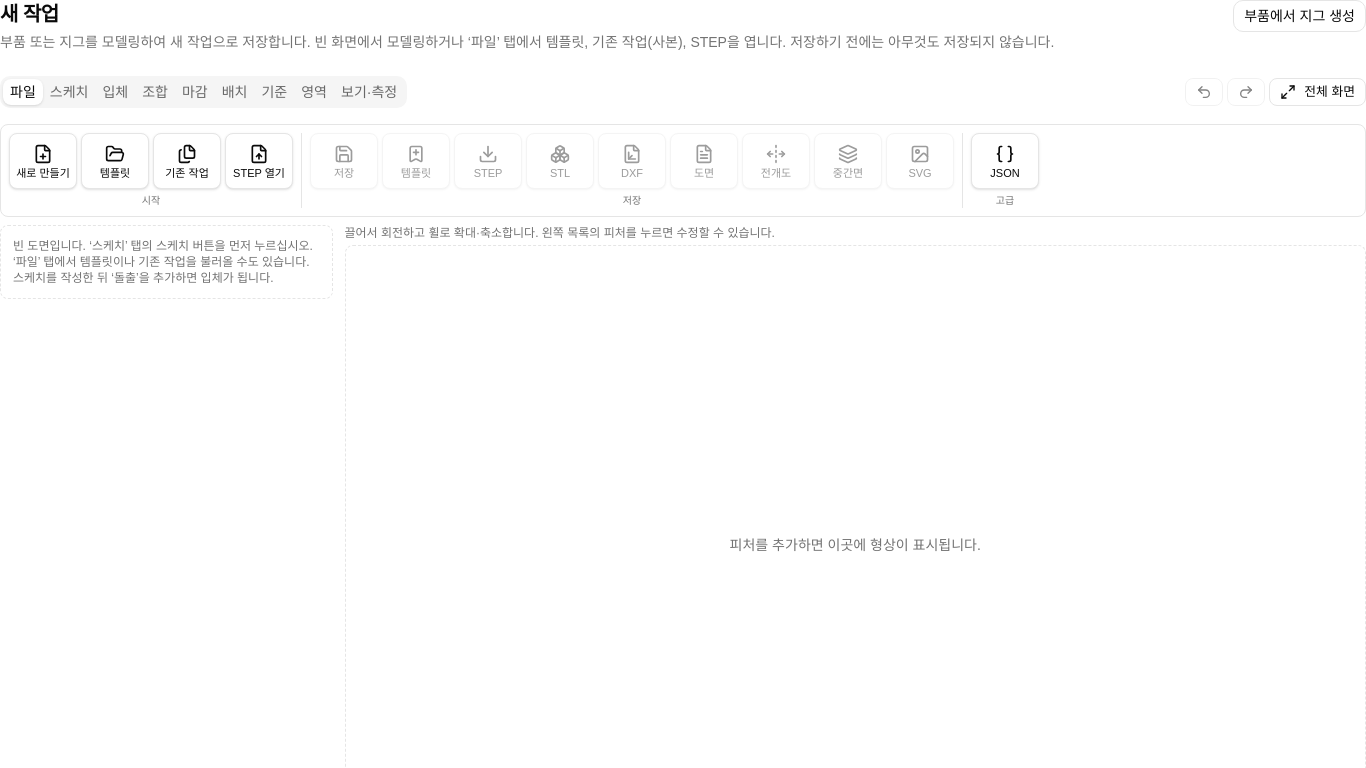
Test: 처음부터 그린 것은 새 작업으로만 저장된다
This screenshot has width=1366, height=768.
Press the mouse on the tab "입체": (115, 92) [95,79,135,105]
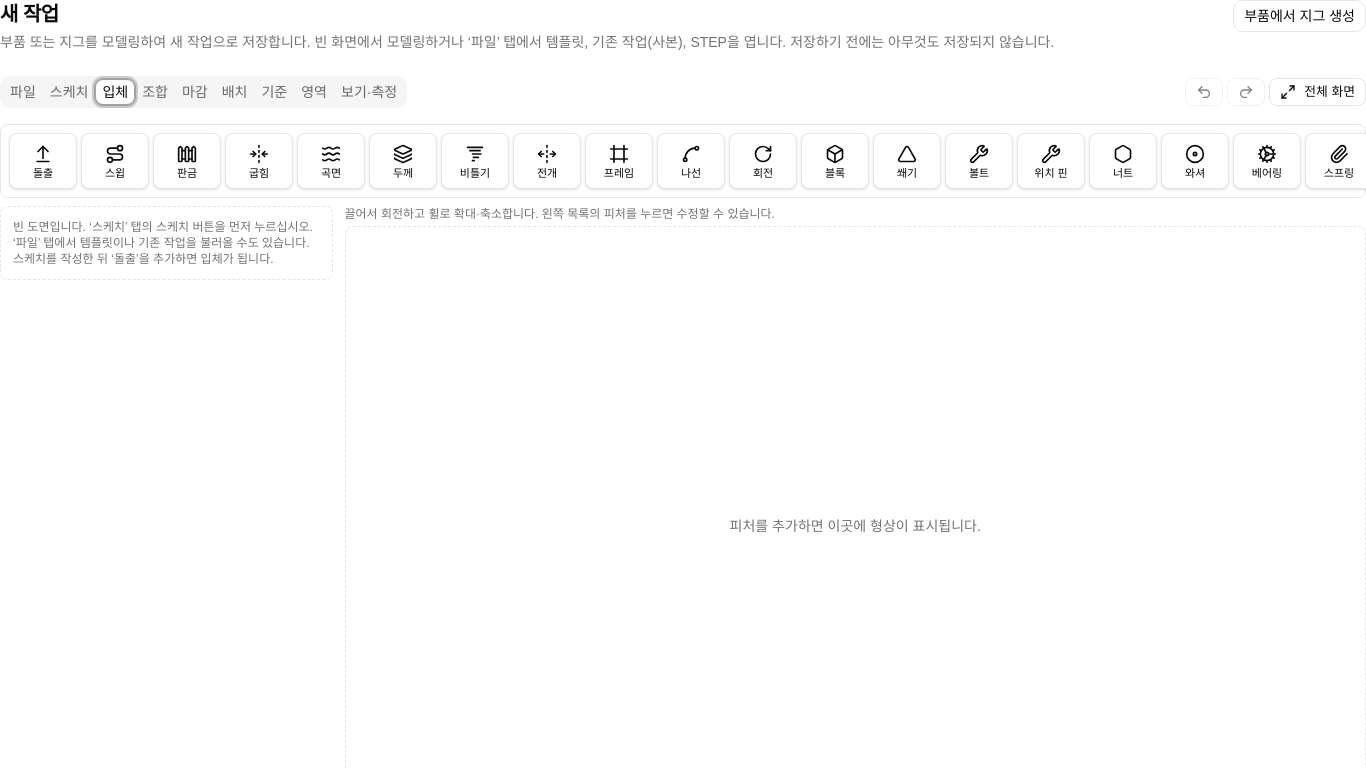
Click the button "블록": (835, 161) [801,133,869,189]
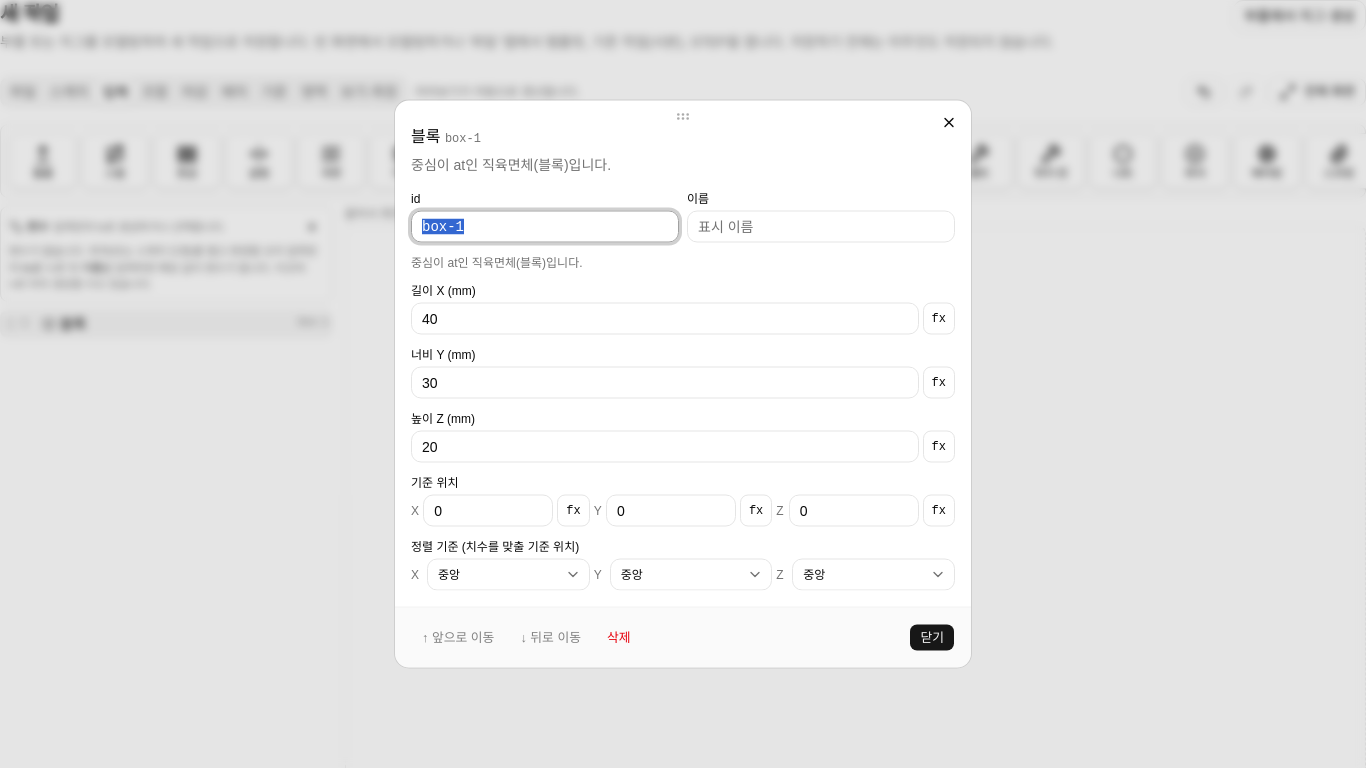
Press Escape in the dialog, box [395,100,971,668]
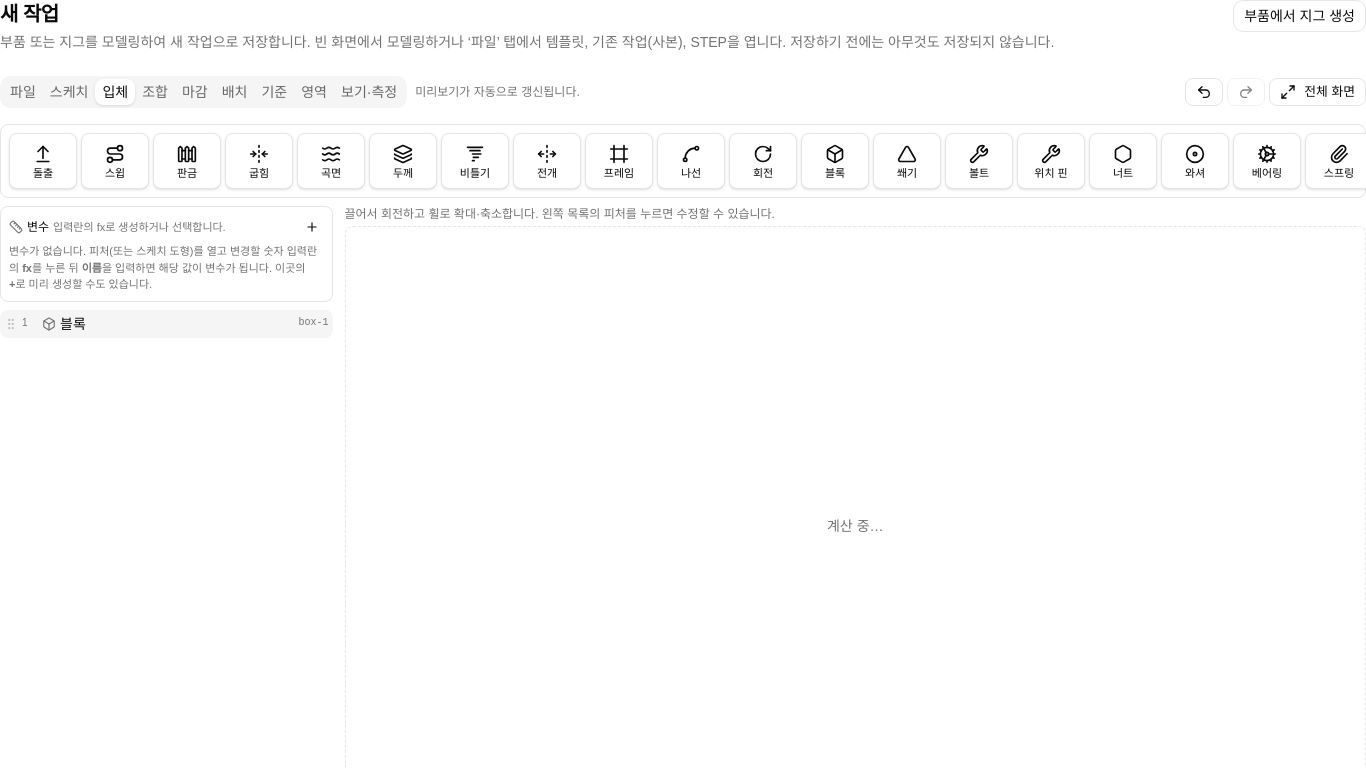
Check: the dialog is gone
Press the mouse on the tab "파일": (23, 92) [3,79,43,105]
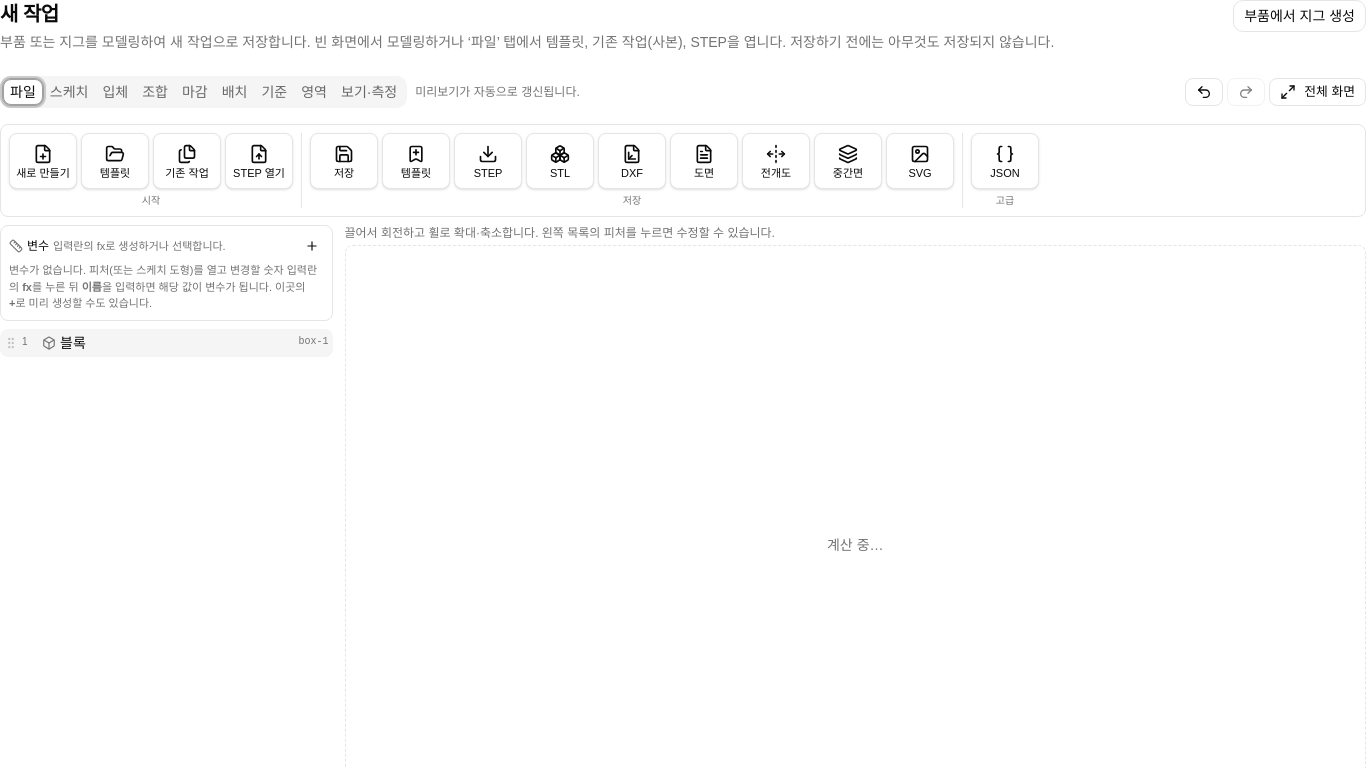
Click the button "저장": (344, 161) [310,133,378,189]
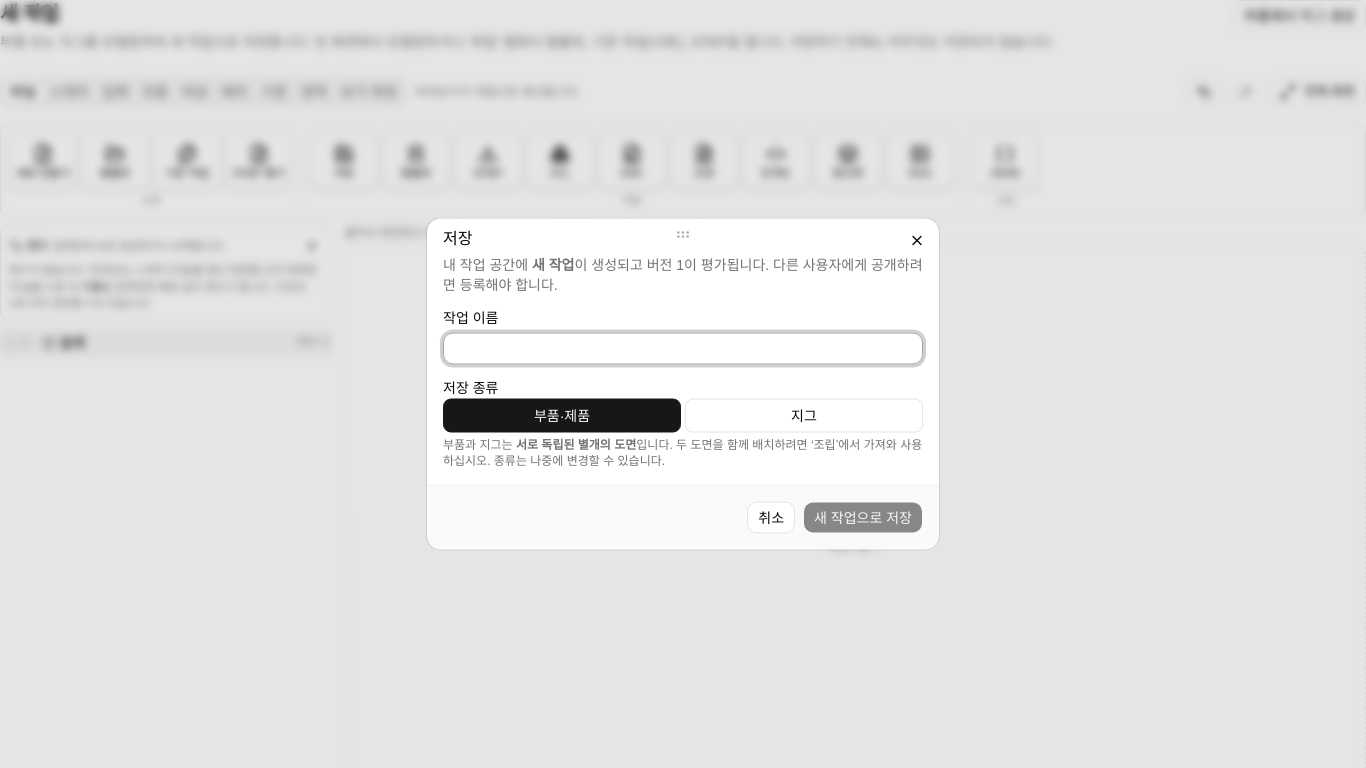
Check: the field labelled "작업 이름" is shown, box [443,332,923,364]
